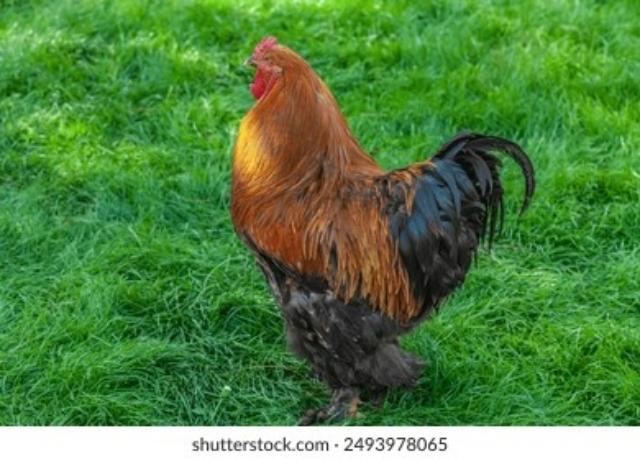Chicken: (231, 35, 534, 417)
